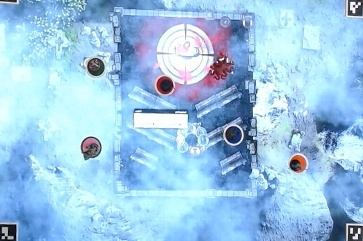blue: (222, 122, 245, 145)
giant_red_octopus: (208, 53, 236, 81)
green: (85, 56, 108, 79)
orange: (288, 152, 311, 175)
pink_green: (80, 136, 102, 159)
red: (151, 77, 173, 100)
